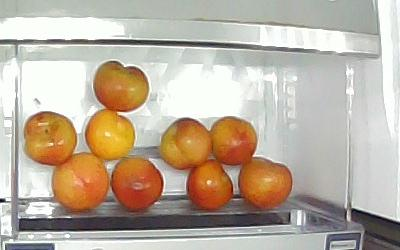prune: (51, 152, 108, 213), (109, 155, 164, 211), (237, 156, 292, 210), (24, 111, 77, 166), (84, 108, 137, 161), (158, 117, 211, 170), (93, 62, 149, 112), (187, 158, 233, 210), (211, 117, 258, 166)
